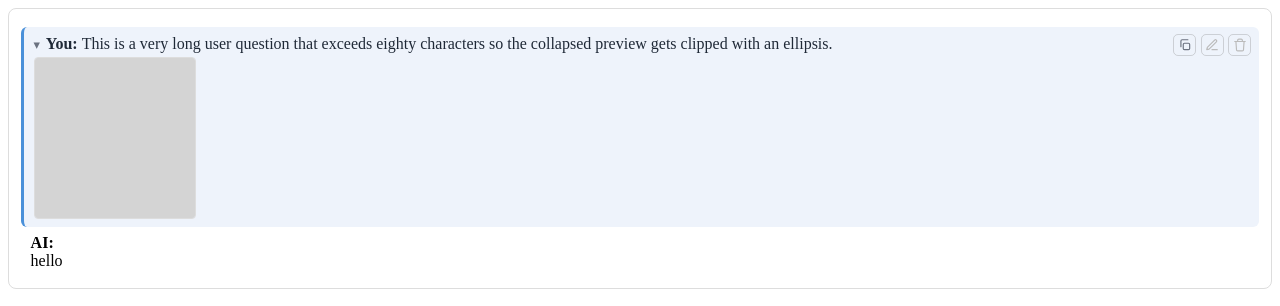
user questions are collapsible: toggle hides full text + images, shows ellipsized preview
Expected: the element with test id "msg-user" shows "This is a very long user question that exceeds eighty characters so the collapsed preview gets clipped with an ellipsis.", [82, 35, 832, 52]
Collapse: full text hidden, ellipsized first-80-chars preview shown, images gone.
Step 1. Click the button with test id "question-toggle" → (37, 46), box [34, 39, 40, 52]
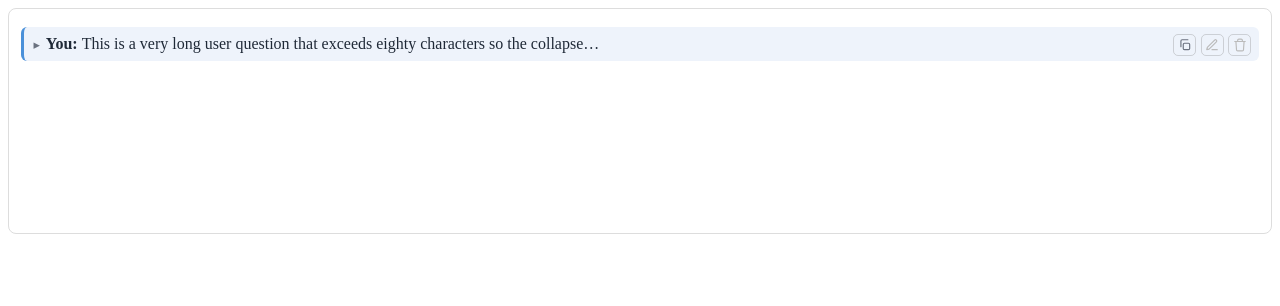
Expected: the button with test id "question-toggle" is collapsed
Expected: the element with test id "msg-user" no longer shows "This is a very long user question that exceeds eighty characters so the collapsed preview gets clipped with an ellipsis.", [21, 27, 1259, 61]
Expected: the element with test id "msg-images" is gone
Expand again: full text + images back, aria-expanded flips true.
Step 2. Click the button with test id "question-toggle" → (37, 46), box [34, 39, 40, 52]
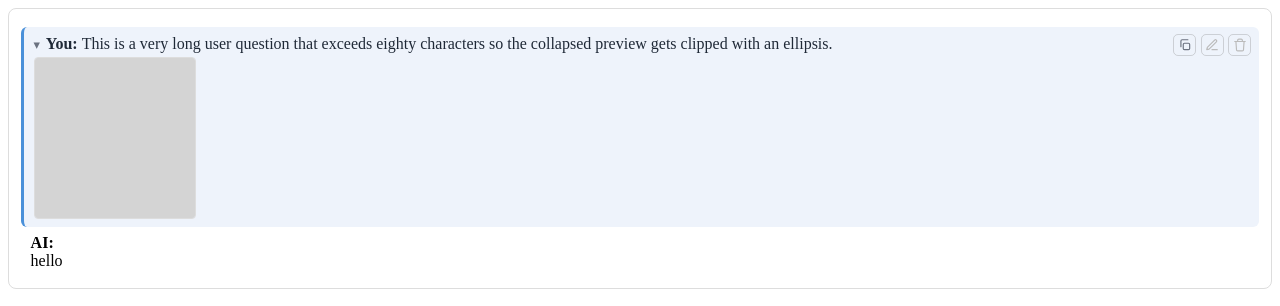
Expected: the button with test id "question-toggle" is expanded, [34, 39, 40, 52]
Expected: the element with test id "msg-user" shows "This is a very long user question that exceeds eighty characters so the collapsed preview gets clipped with an ellipsis.", [82, 35, 832, 52]
